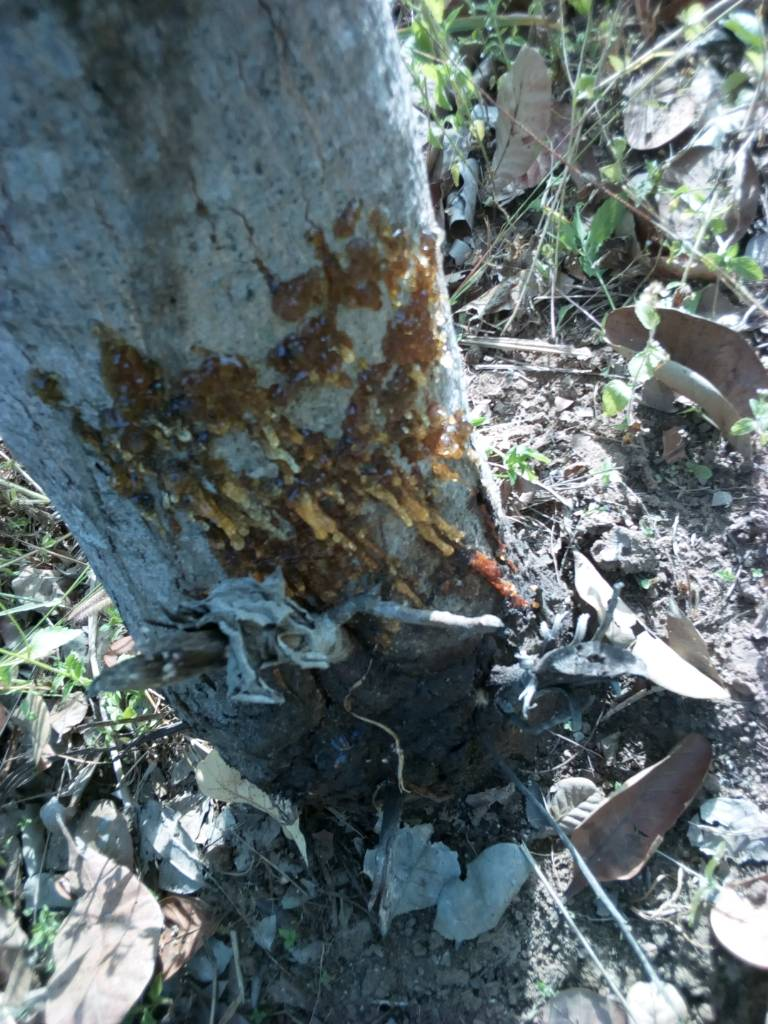Gommose: (72, 222, 482, 608)
